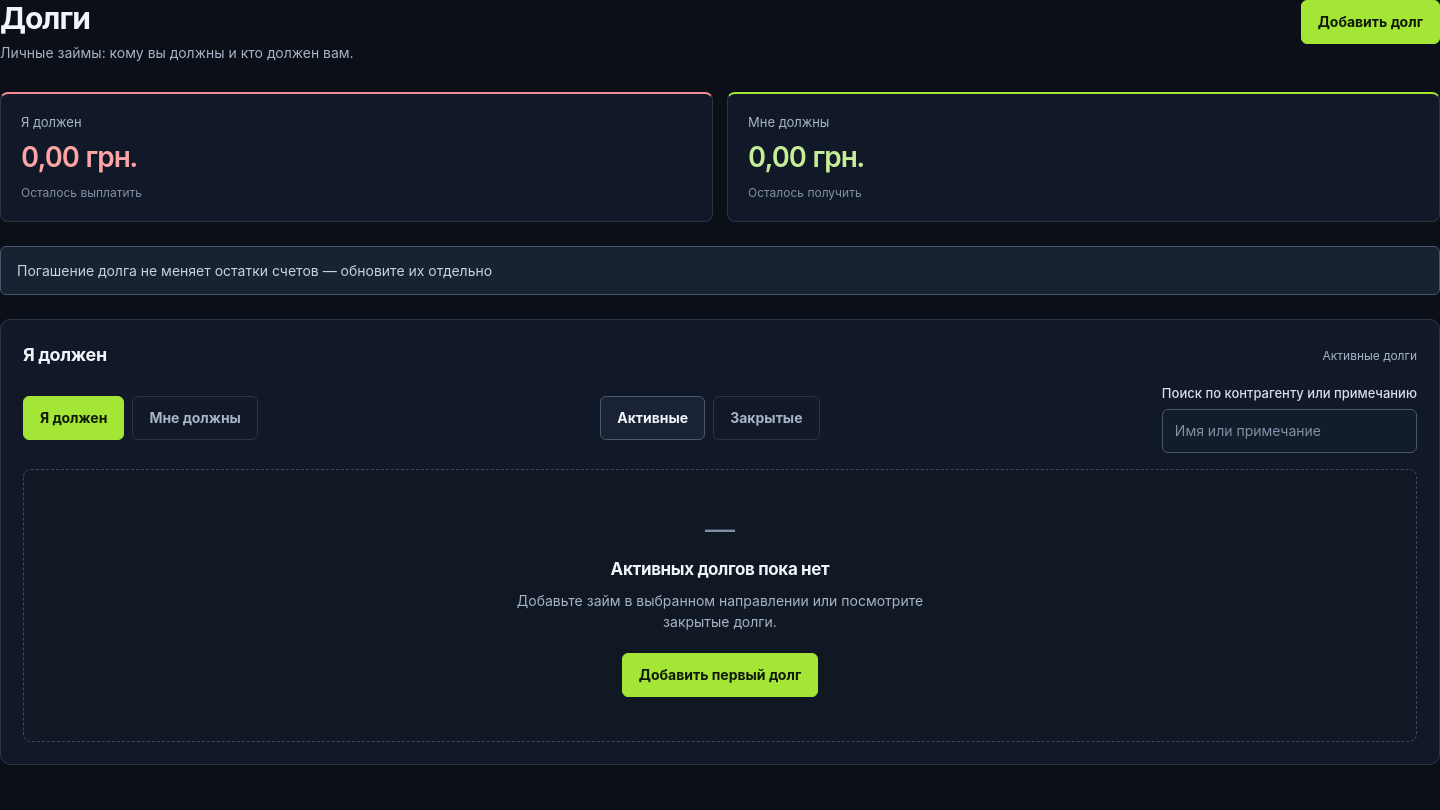
Test case: DebtsPage › creates a receivable loan using exact kopecks
Click the button "Мне должны".
click(195, 418)  # box [132,396,258,440]
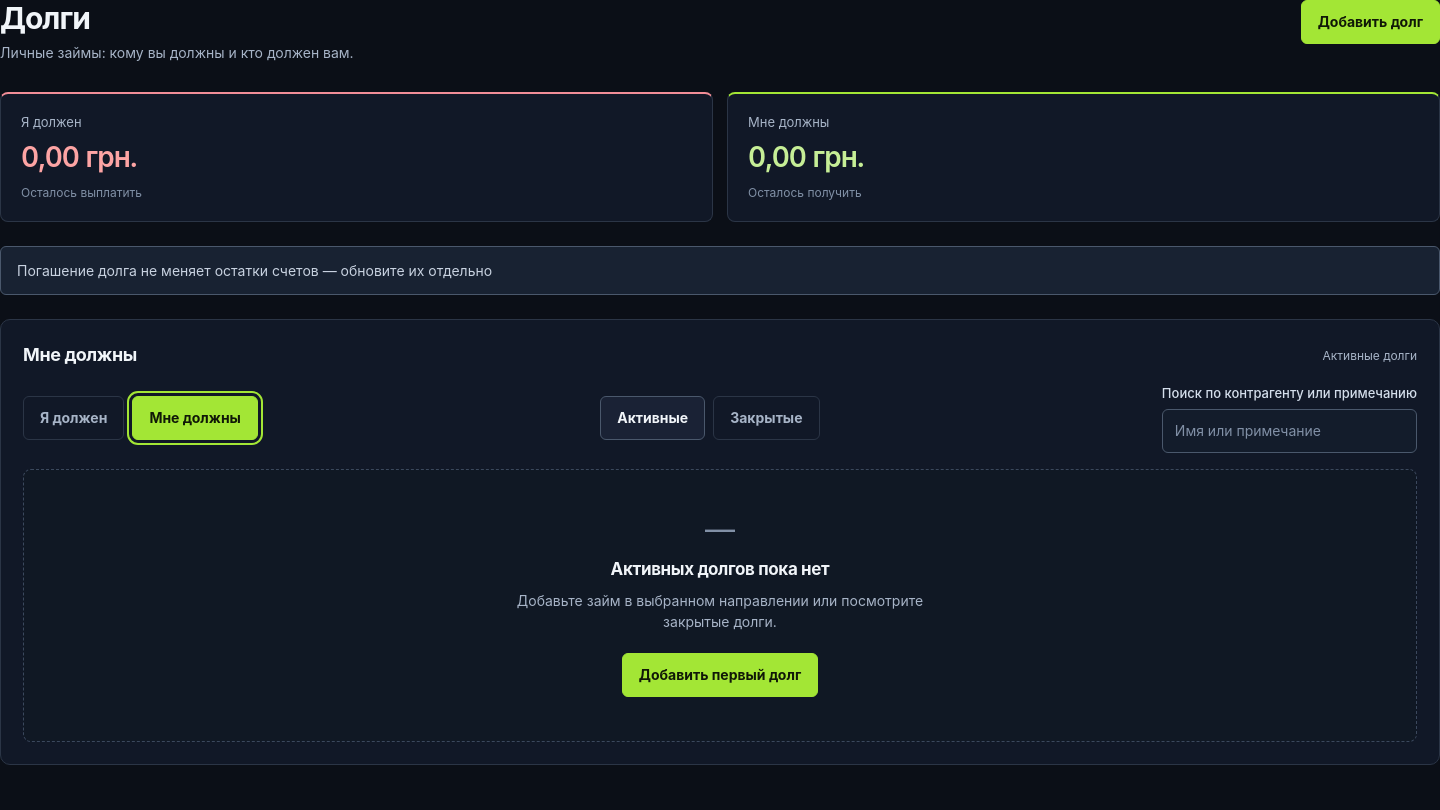
Click the button "Добавить долг".
click(1370, 22)  # box [1301,0,1439,44]
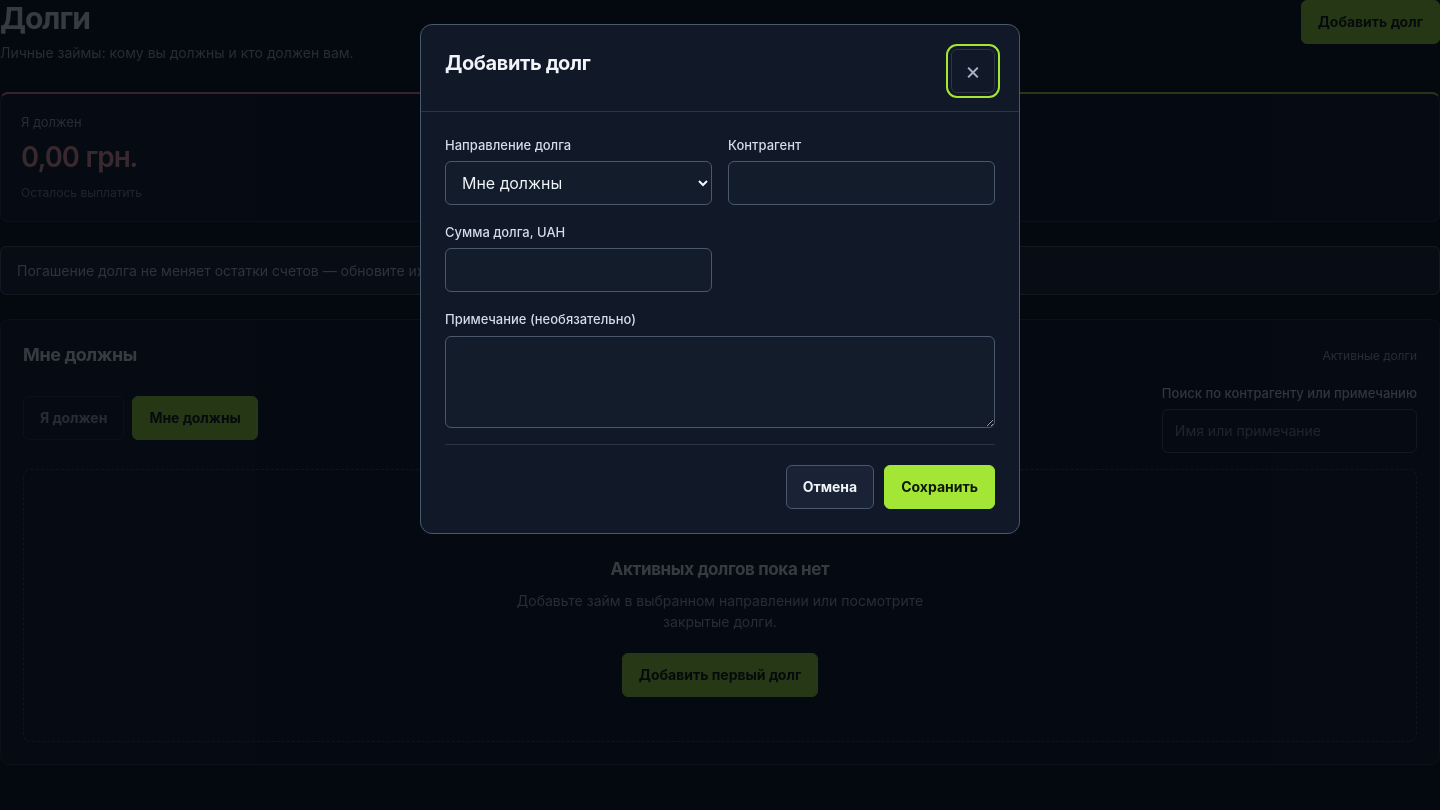
expect the dropdown labelled "Направление долга" shows "Мне должны": met, box [445,161,712,205]
Type "  Борис  " into the field labelled "Контрагент".
click(862, 183); type("  Борис  ")  # box [728,161,995,205]
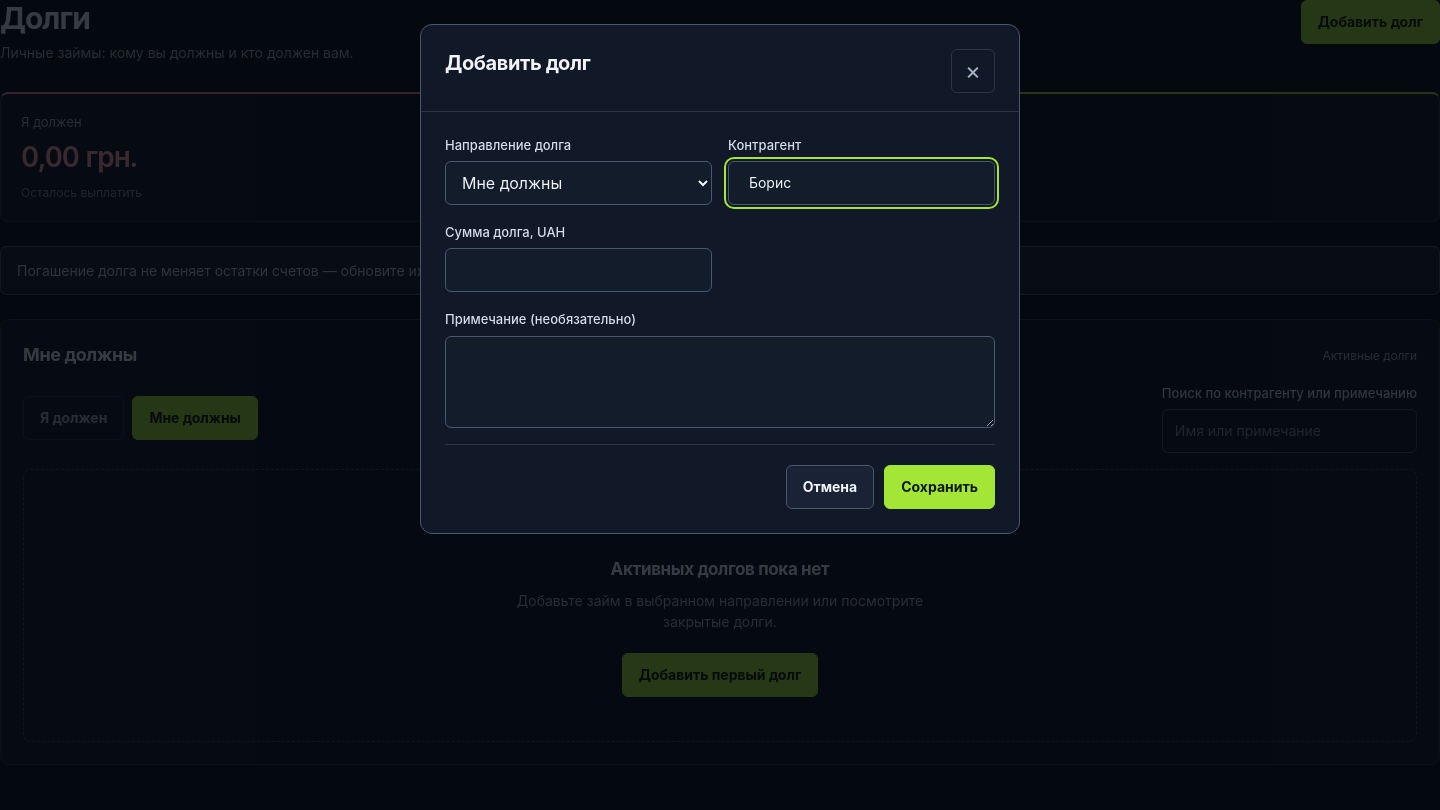
Type "123,45" into the field labelled "Сумма долга, UAH".
click(578, 270); type("123,45")  # box [445,248,712,292]
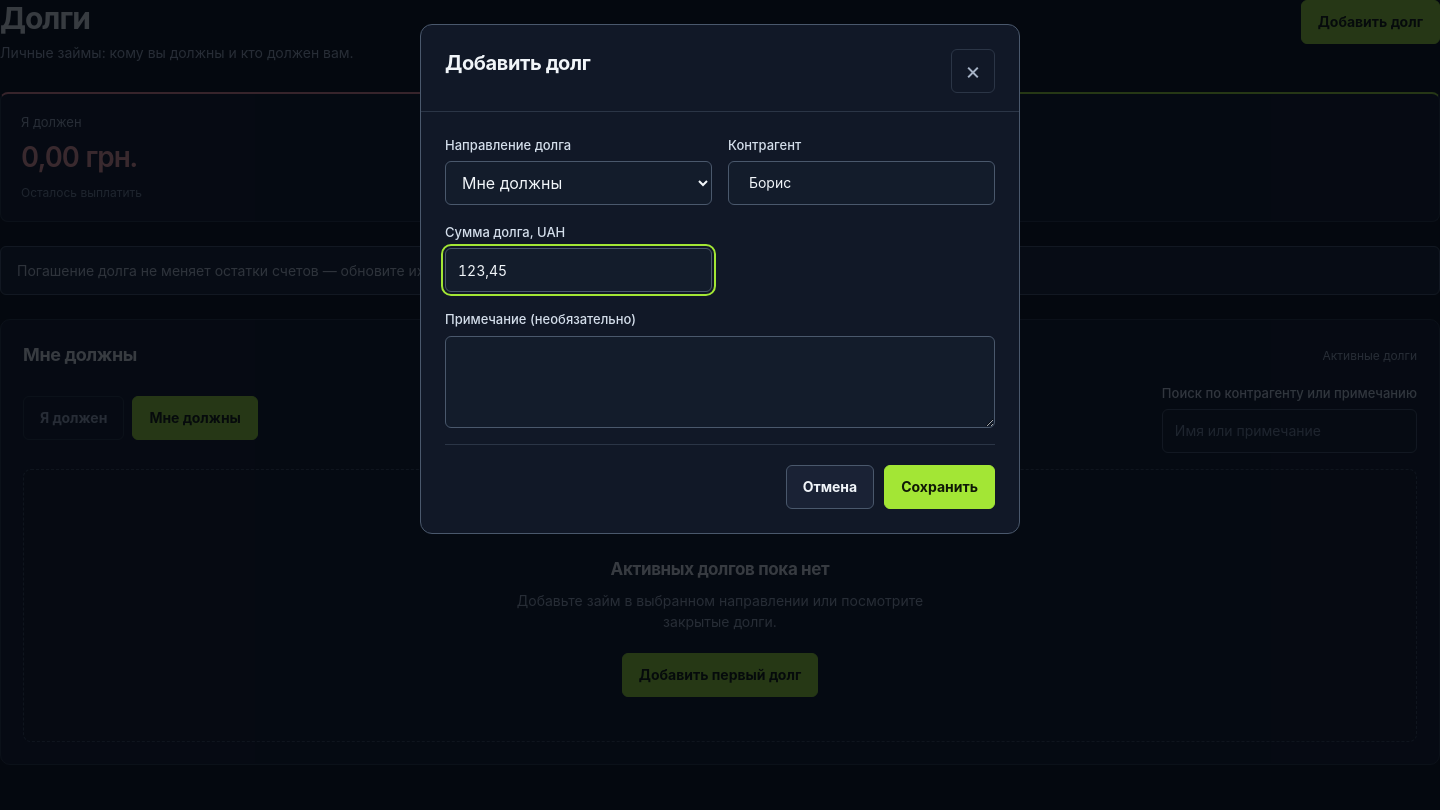
Click the button "Сохранить".
click(940, 487)  # box [884,465,995,509]
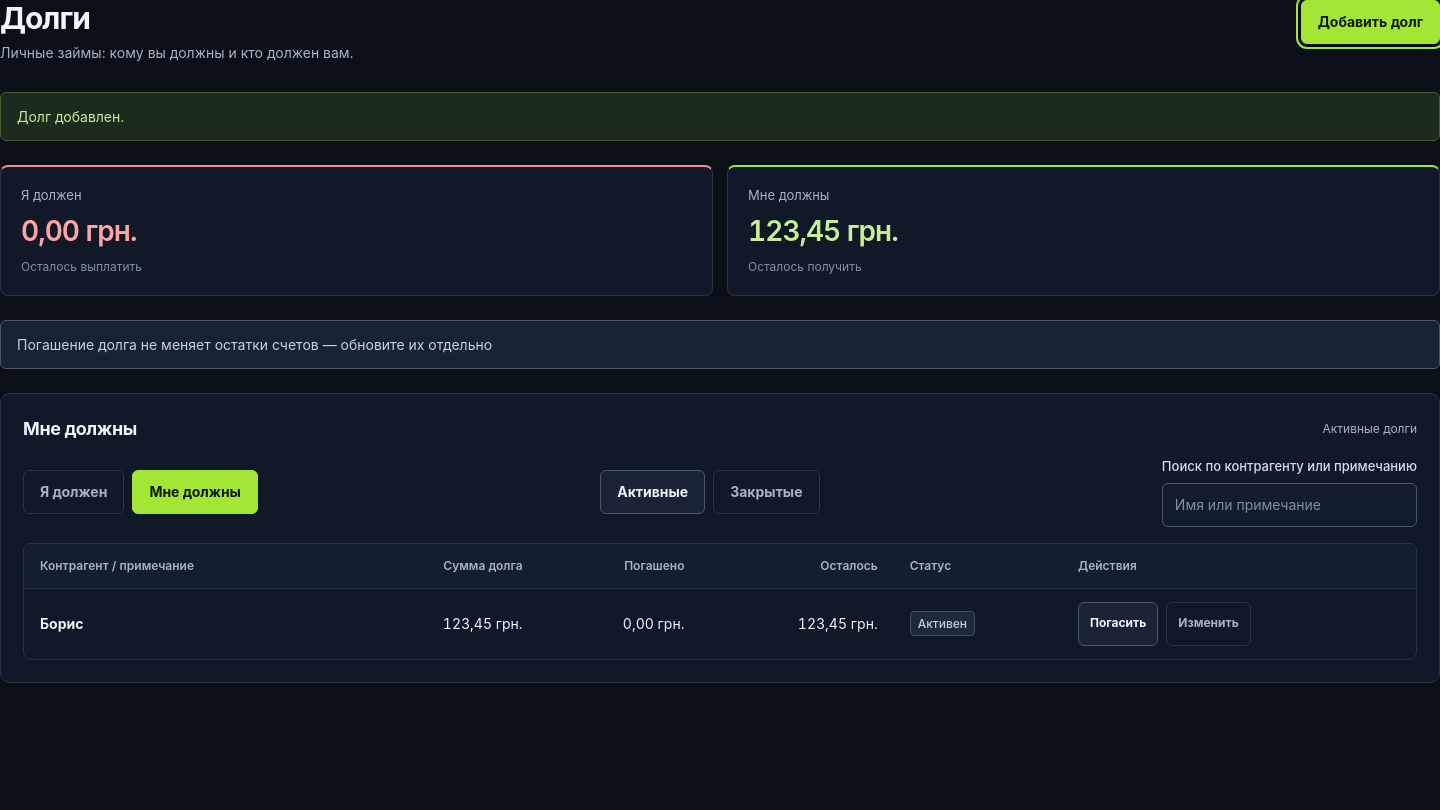
expect the dialog is gone: met
